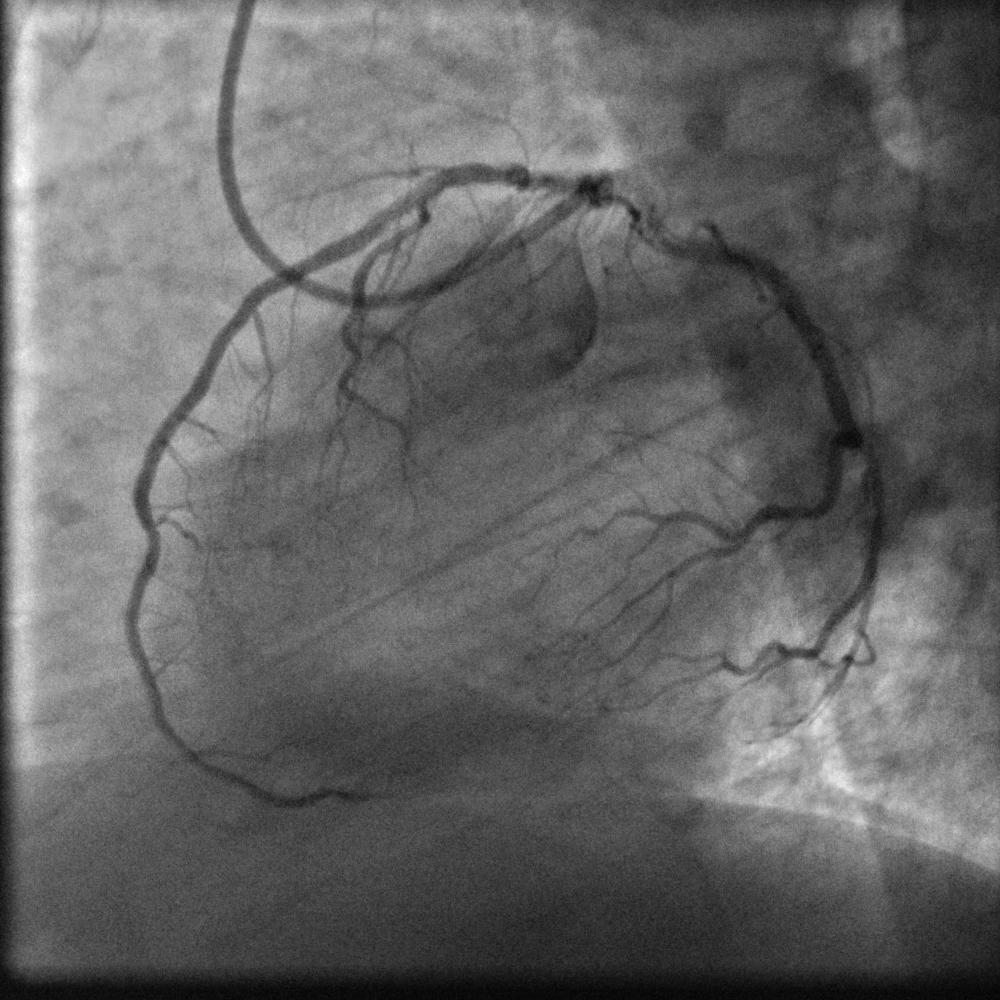Stenosis: (489, 158, 533, 186)
